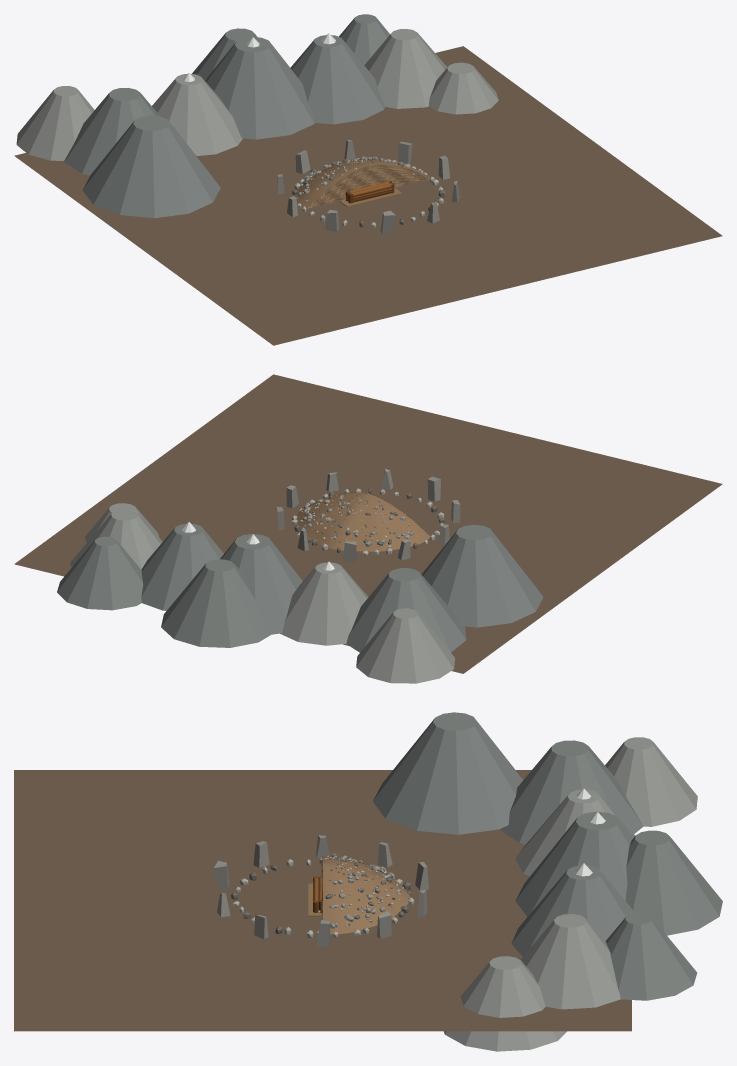
File: berel_korgan.glb
3 views of the same model, one above another, from view 1: azimuth 30°, elevation 25°; view 2: azimuth 150°, elevation 25°; view 3: azimuth 270°, elevation 25° (orthographic). The views are drawn at different scales.
Visible parts, largest first — view 1: Берел_жері, Алтай тауы.008, Алтай тауы.002, Алтай тауы.003, Алтай тауы.004, Алтай тауы.001, Алтай тауы, Алтай тауы.005, Алтай тауы.009, БЕРЕЛ_ҚОРҒАНЫ_КЕДІР_БҰДЫР_ҚИМА, Алтай тауы.007, БЕРЕЛ ҚОРҒАНЫ (+1 smaller); view 2: Берел_жері, Алтай тауы.008, Алтай тауы.006, Алтай тауы.005, Алтай тауы.001, БЕРЕЛ ҚОРҒАНЫ, Алтай тауы, Алтай тауы.007, Алтай тауы.002, Алтай тауы.003, Алтай тауы.004; view 3: Берел_жері, Алтай тауы.008, Алтай тауы.006, Алтай тауы.004, Алтай тауы, Алтай тауы.009, Алтай тауы.007, Алтай тауы.002, Алтай тауы.005, Алтай тауы.003, БЕРЕЛ ҚОРҒАНЫ, Алтай тауы.001.
Boxes of the visible parts, x1,y1,x2,y2 form: Берел_жері: [14, 46, 722, 345]; Алтай тауы.008: [82, 115, 220, 218]; Алтай тауы.002: [205, 37, 315, 139]; Алтай тауы.003: [290, 35, 384, 124]; Алтай тауы.004: [364, 29, 447, 108]; Алтай тауы.001: [152, 73, 242, 155]; Алтай тауы: [64, 88, 159, 175]; Алтай тауы.005: [16, 86, 94, 160]; Алтай тауы.009: [429, 62, 498, 114]; БЕРЕЛ_ҚОРҒАНЫ_КЕДІР_БҰДЫР_ҚИМА: [307, 164, 429, 208]; Алтай тауы.007: [339, 14, 389, 64]; БЕРЕЛ ҚОРҒАНЫ: [297, 159, 429, 208]; Берел_жері: [14, 374, 722, 673]; Алтай тауы.008: [421, 524, 543, 627]; Алтай тауы.006: [161, 559, 270, 647]; Алтай тауы.005: [356, 608, 455, 683]; Алтай тауы.001: [280, 562, 368, 645]; БЕРЕЛ ҚОРҒАНЫ: [297, 492, 429, 551]; Алтай тауы: [346, 568, 466, 652]; Алтай тауы.007: [57, 536, 143, 610]; Алтай тауы.002: [220, 534, 302, 634]; Алтай тауы.003: [141, 523, 223, 610]; Алтай тауы.004: [70, 509, 162, 569]; Берел_жері: [14, 770, 631, 1031]; Алтай тауы.008: [373, 712, 523, 834]; Алтай тауы.006: [625, 830, 722, 935]; Алтай тауы.004: [520, 914, 620, 1009]; Алтай тауы: [499, 740, 643, 844]; Алтай тауы.009: [444, 956, 566, 1051]; Алтай тауы.007: [605, 913, 697, 1000]; Алтай тауы.002: [515, 811, 633, 916]; Алтай тауы.005: [605, 737, 697, 826]; Алтай тауы.003: [511, 865, 634, 956]; БЕРЕЛ ҚОРҒАНЫ: [323, 856, 410, 934]; Алтай тауы.001: [515, 789, 635, 876].
Bounding box in the file's own units: 45 × 9.09 × 51.62.
